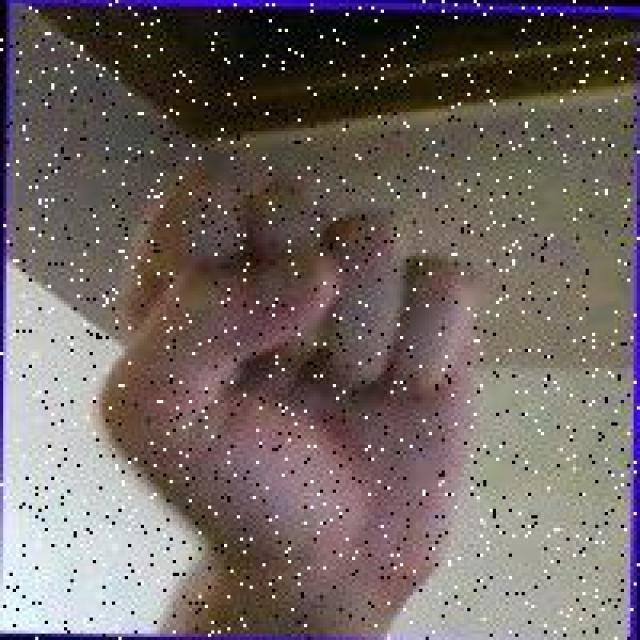S: (86, 152, 496, 610)
